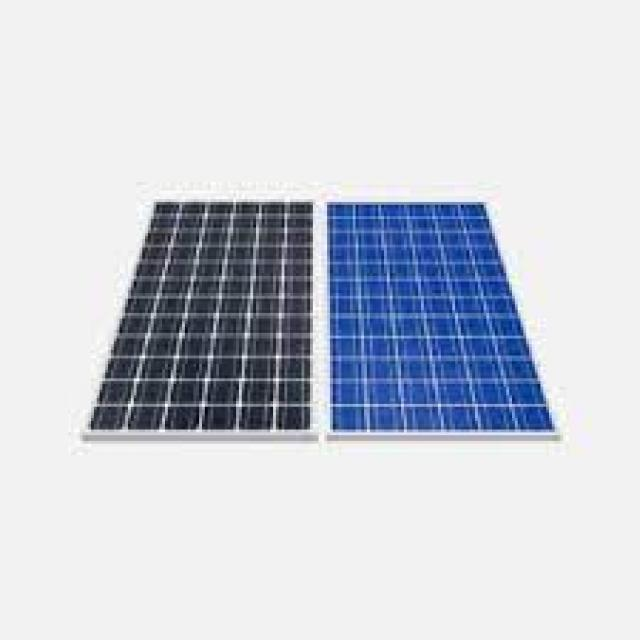no faulty: (106, 198, 319, 442), (332, 207, 547, 438)
